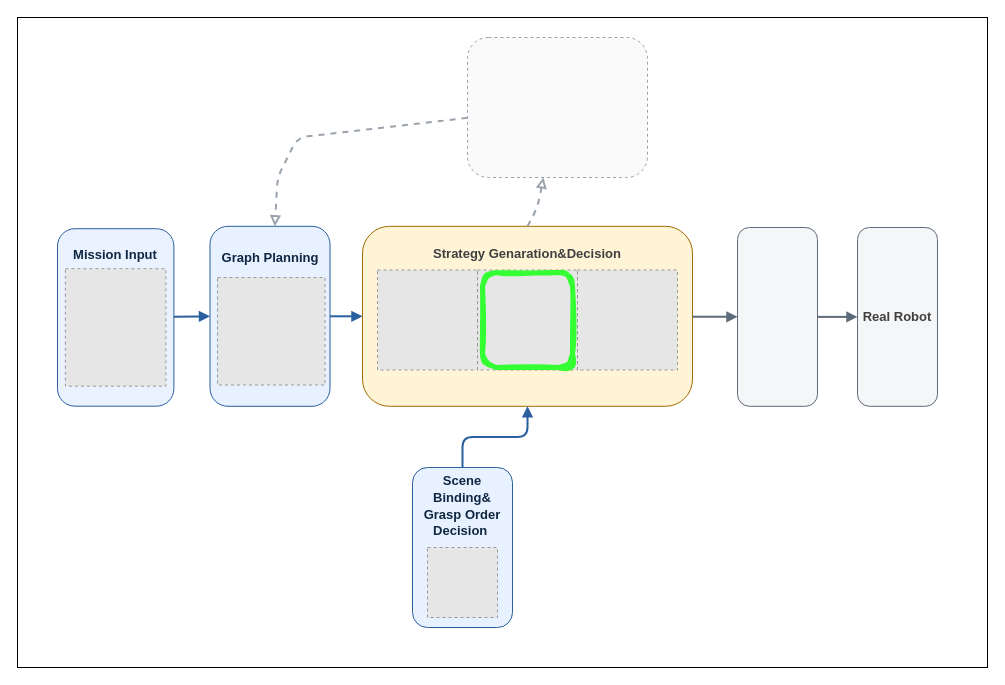
This 1005x685 diagram has some shape labels left out. Grey dashed boxes stand in for pictures. The centre of each missing label's shape, as x and y in pixels:
"Receding Horizon Execution" belongs at [777,316].
"Violation Detected" belongs at [557,107].
